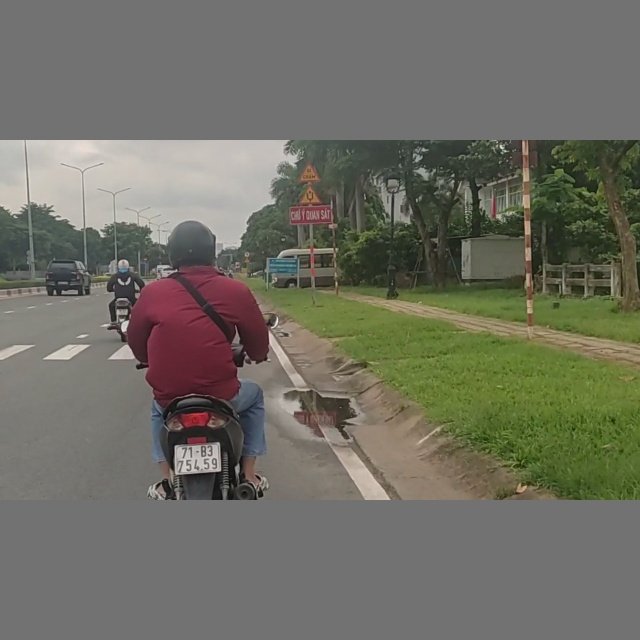W.245a: (299, 164, 321, 181)
W.246a: (301, 184, 324, 205)
